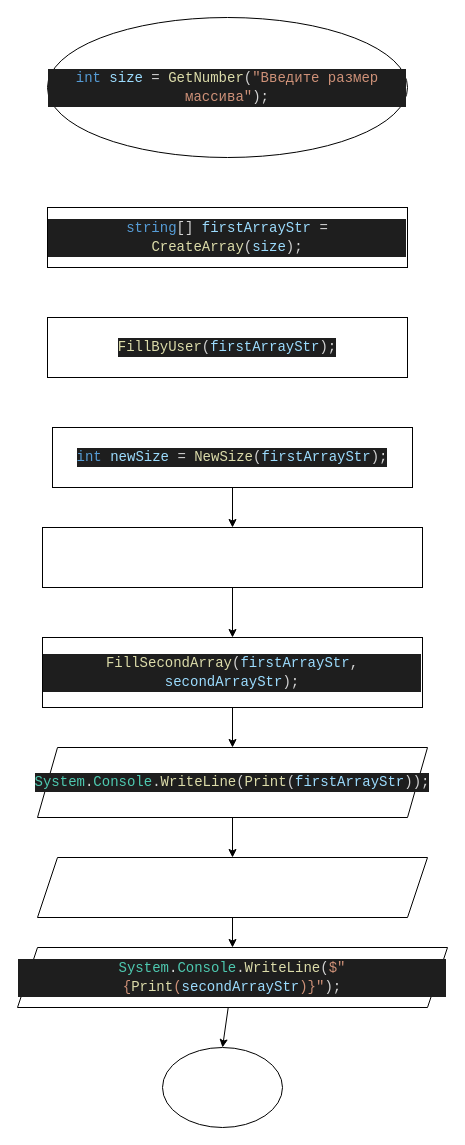
Some shapes in this 465 by 1145 pixel diagram are drawn without their labels. Here are the shapes that lost their labels. From the top down, the box of each, then its label:
(42, 526, 422, 588): string [] secondArrayStr = CreateArray ( newSize );
(36, 856, 428, 918): System . Console . WriteLine ();
(162, 1046, 282, 1128): end
